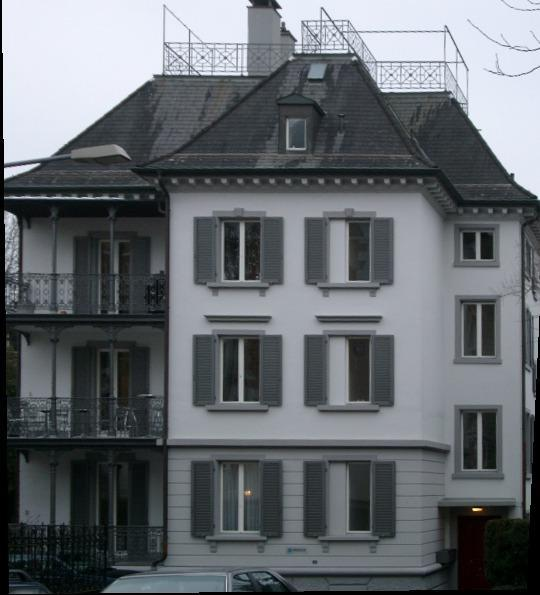window: (92, 462, 131, 557), (95, 349, 134, 437), (217, 462, 261, 537), (328, 462, 371, 537), (218, 335, 260, 405), (328, 336, 370, 406), (95, 237, 131, 316), (220, 218, 261, 284), (330, 219, 371, 284), (460, 409, 499, 473), (461, 300, 497, 359), (462, 230, 496, 261), (286, 117, 306, 152), (309, 61, 327, 81)
